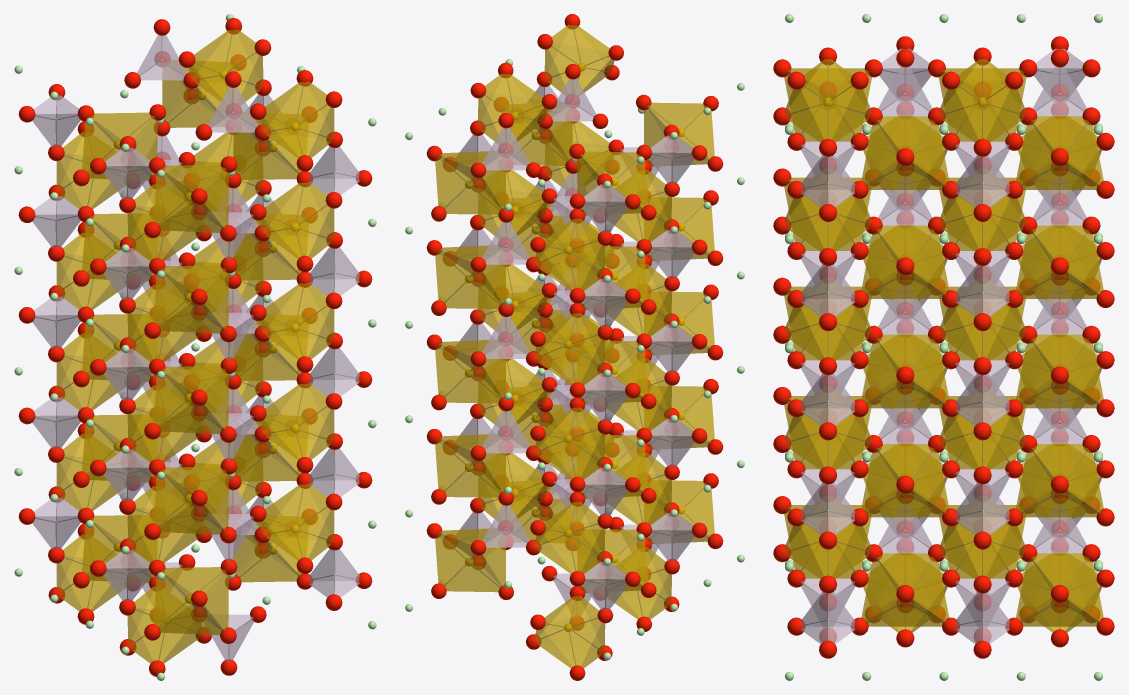
Rendered from LiFePO4.glb.
The picture shows the model from 3 angles, left to right: view 1: azimuth 30°, elevation 25°; view 2: azimuth 150°, elevation 25°; view 3: azimuth 270°, elevation 25°; orthographic projection. The views are drawn at different scales.
Parts seen in each view (by area): view 1: Shape_IndexedFaceSet, Shape_IndexedFaceSet.320, atom3_IndexedFaceSet, Shape_Cylinder, atom0_IndexedFaceSet, atom1_IndexedFaceSet; view 2: Shape_IndexedFaceSet, Shape_IndexedFaceSet.320, atom3_IndexedFaceSet, Shape_Cylinder, atom0_IndexedFaceSet, atom1_IndexedFaceSet; view 3: Shape_IndexedFaceSet, Shape_IndexedFaceSet.320, atom3_IndexedFaceSet, Shape_Cylinder, atom0_IndexedFaceSet.
Part boxes in pixels (x1=…): Shape_IndexedFaceSet: x1=56, y1=29, x2=334, y2=663; Shape_IndexedFaceSet.320: x1=32, y1=35, x2=359, y2=662; atom3_IndexedFaceSet: x1=18, y1=18, x2=372, y2=676; Shape_Cylinder: x1=35, y1=34, x2=357, y2=660; atom0_IndexedFaceSet: x1=14, y1=14, x2=376, y2=680; atom1_IndexedFaceSet: x1=113, y1=70, x2=299, y2=603; Shape_IndexedFaceSet: x1=435, y1=25, x2=714, y2=668; Shape_IndexedFaceSet.320: x1=455, y1=78, x2=694, y2=615; atom3_IndexedFaceSet: x1=426, y1=14, x2=723, y2=680; Shape_Cylinder: x1=440, y1=29, x2=709, y2=664; atom0_IndexedFaceSet: x1=405, y1=35, x2=744, y2=660; atom1_IndexedFaceSet: x1=465, y1=63, x2=684, y2=631; Shape_IndexedFaceSet: x1=784, y1=59, x2=1103, y2=632; Shape_IndexedFaceSet.320: x1=801, y1=48, x2=1086, y2=644; atom3_IndexedFaceSet: x1=773, y1=36, x2=1114, y2=658; Shape_Cylinder: x1=790, y1=64, x2=1097, y2=640; atom0_IndexedFaceSet: x1=785, y1=14, x2=1102, y2=680.
Bounding box in the file's own units: 11.85 × 26.64 × 13.19.
